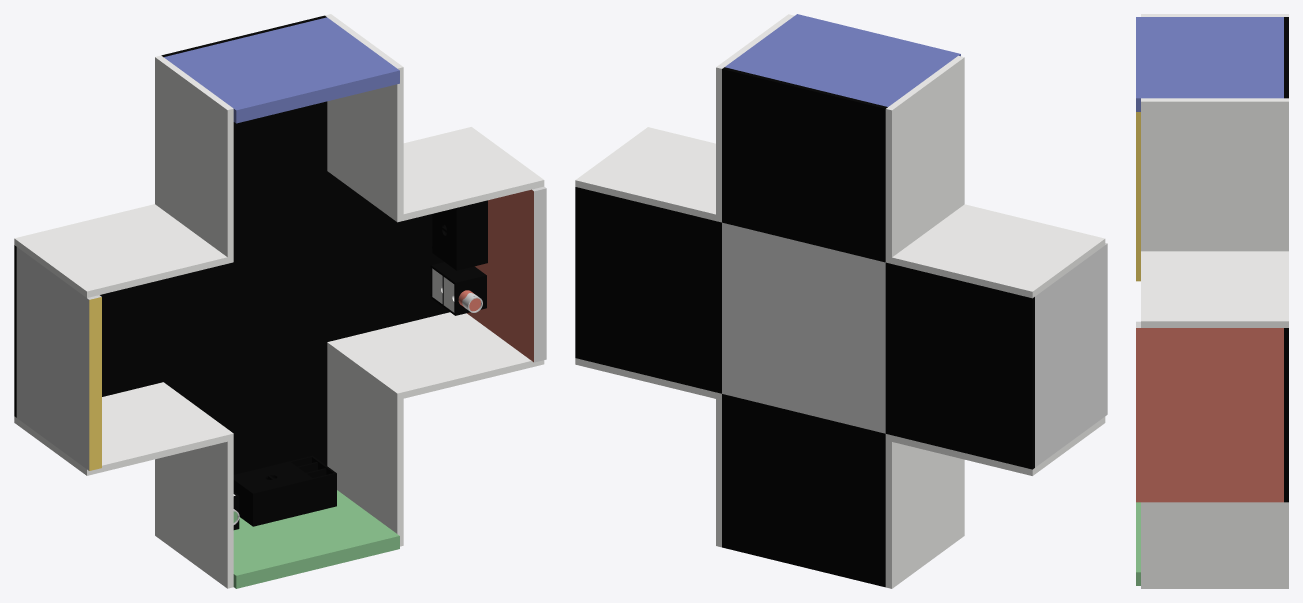
The picture shows the model from 3 angles, left to right: view 1: azimuth 30°, elevation 25°; view 2: azimuth 150°, elevation 25°; view 3: azimuth 270°, elevation 25°; orthographic projection.
Visible parts, largest first — view 1: Body36, Body71, Body35, Body34, Body37, Body59, Body15, Body38, Body60, Body48, Body70, Body1 (+4 smaller); view 2: Body71, Body49, Body1, Body60, Body38, Body36, Body59, Body15, Body34, Body37, Body35; view 3: Body37, Body48, Body35, Body15, Body38, Body59, Body36, Body70, Body1.
Boxes of the visible parts, left/top/right/bottom form: Body36: left=14, top=55, right=233, bottom=297; Body71: left=163, top=171, right=327, bottom=381; Body35: left=327, top=312, right=544, bottom=546; Body34: left=14, top=382, right=233, bottom=588; Body37: left=325, top=14, right=544, bottom=222; Body59: left=16, top=247, right=101, bottom=470; Body15: left=164, top=17, right=399, bottom=123; Body38: left=327, top=171, right=449, bottom=341; Body60: left=164, top=342, right=327, bottom=474; Body48: left=467, top=186, right=546, bottom=362; Body70: left=233, top=490, right=399, bottom=588; Body1: left=161, top=15, right=327, bottom=193; Body71: left=722, top=222, right=885, bottom=433; Body49: left=885, top=262, right=1034, bottom=469; Body1: left=722, top=67, right=887, bottom=262; Body60: left=722, top=394, right=885, bottom=587; Body38: left=575, top=187, right=721, bottom=393; Body36: left=885, top=55, right=1105, bottom=298; Body59: left=1035, top=243, right=1107, bottom=467; Body15: left=725, top=14, right=960, bottom=106; Body34: left=885, top=417, right=1105, bottom=588; Body37: left=575, top=14, right=794, bottom=222; Body35: left=575, top=358, right=721, bottom=547; Body37: left=1141, top=98, right=1288, bottom=327; Body48: left=1136, top=321, right=1283, bottom=502; Body35: left=1141, top=502, right=1288, bottom=588; Body15: left=1136, top=17, right=1283, bottom=111; Body38: left=1284, top=328, right=1288, bottom=502; Body59: left=1136, top=112, right=1140, bottom=281; Body36: left=1141, top=14, right=1288, bottom=16; Body70: left=1136, top=502, right=1140, bottom=585; Body1: left=1284, top=17, right=1288, bottom=98.
Size of the model in its own units: 1090 by 1090 by 310.
